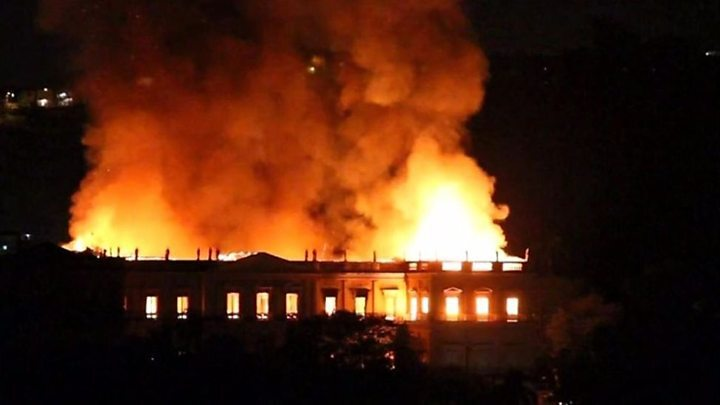fire: (60, 134, 544, 331)
